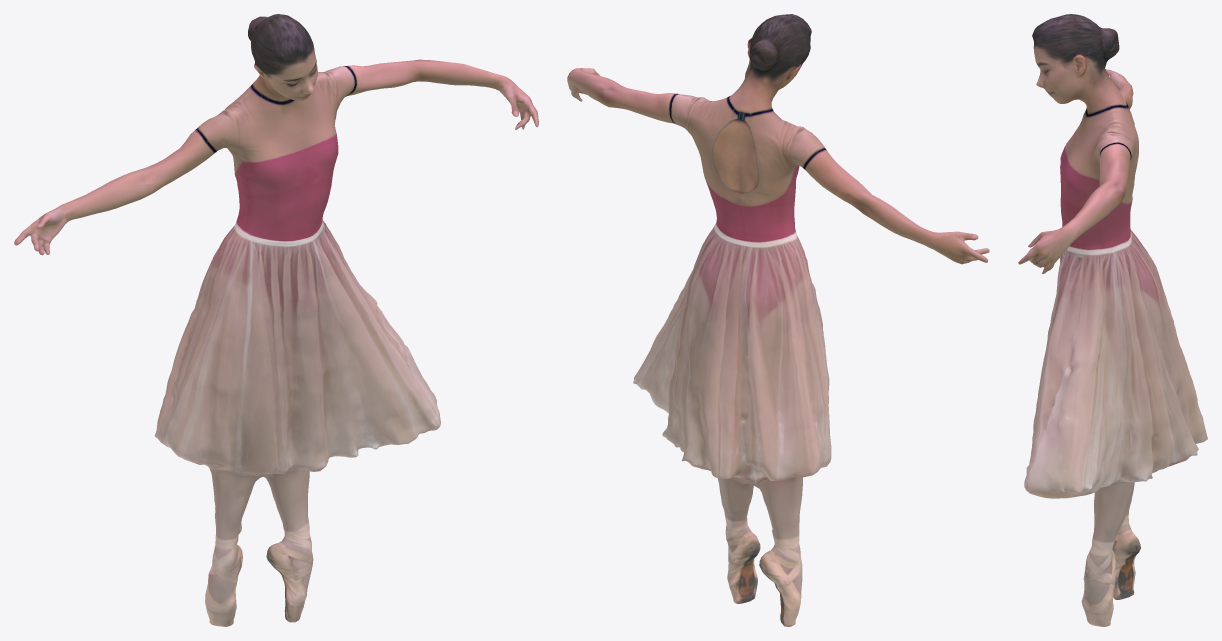
The model's file is ballet.glb.
3 views of the same model, side by side, from view 1: azimuth 30°, elevation 25°; view 2: azimuth 150°, elevation 25°; view 3: azimuth 270°, elevation 25° (orthographic). The views are drawn at different scales.
Parts seen in each view (by area): view 1: Frame_0153; view 2: Frame_0153; view 3: Frame_0153.
Part boxes in pixels (<box>): Frame_0153: <box>14,14,538,626</box>; Frame_0153: <box>567,14,989,626</box>; Frame_0153: <box>1018,14,1207,626</box>.
Size of the model in its own units: 1.47 by 1.81 by 0.5213.
1 material, 1 textured.
